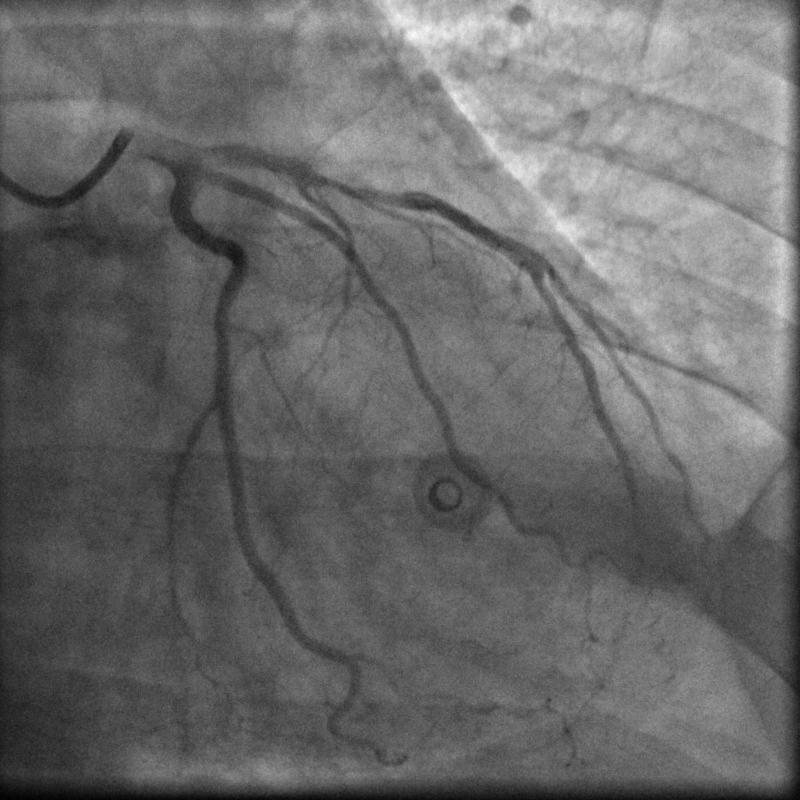Stenosis: (318, 170, 403, 205)
